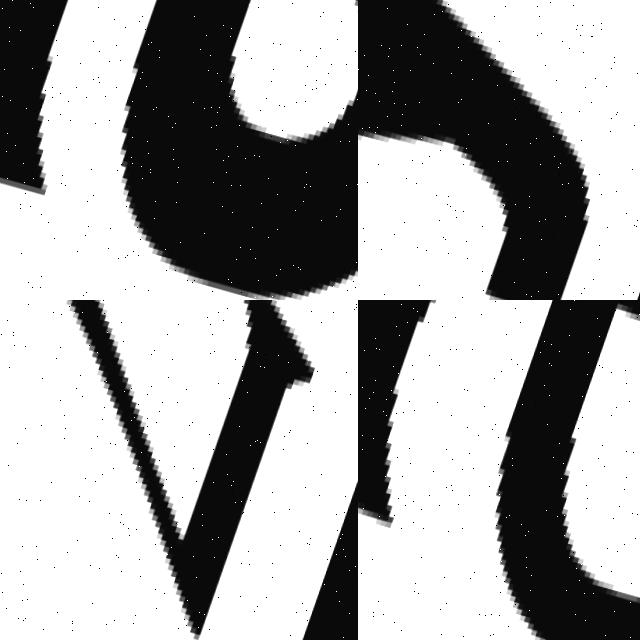2: (0, 300, 358, 640)
A: (0, 0, 358, 300), (358, 300, 640, 640)
Y: (358, 0, 640, 300)
